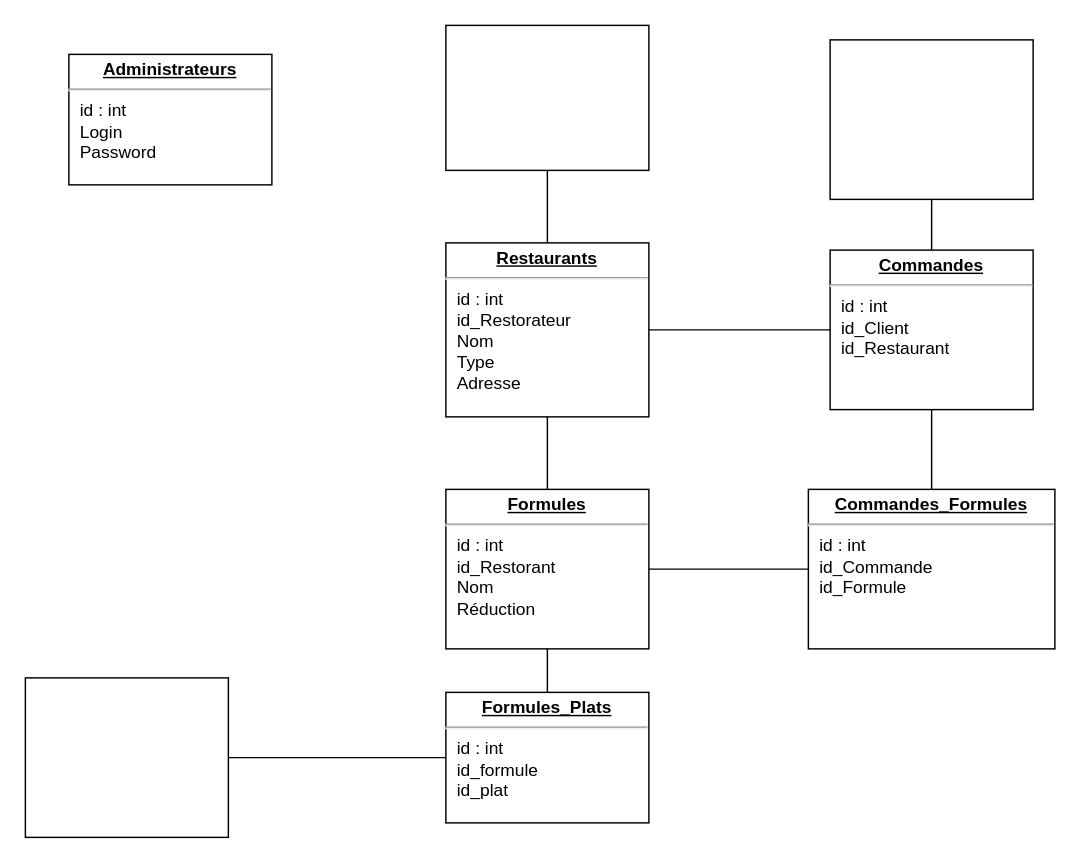
Some shapes in this 1080 by 863 pixel diagram are drawn without their labels. Each missing label, with the centre of its shape:
"Clients id : int Nom Mail Password" belongs at pixel 931 118.
"Plats id : int Nom Prix" belongs at pixel 126 756.
"Restaurateurs id : int Nom Mail Password" belongs at pixel 546 97.
